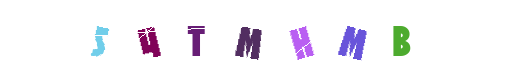4: (109, 0, 189, 80)
5: (102, 0, 182, 80)
B: (361, 0, 441, 80)
H: (249, 0, 329, 80)
M: (221, 0, 301, 80), (309, 0, 389, 80)
T: (191, 0, 271, 80)
